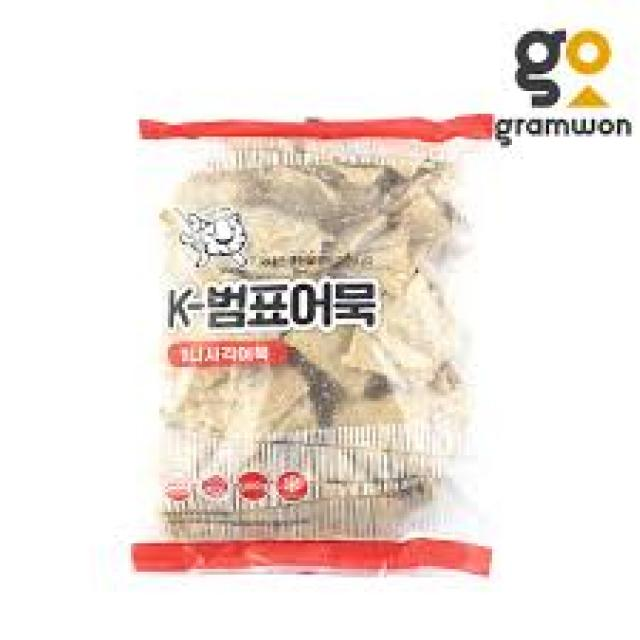fish_cake: (134, 111, 489, 575)
